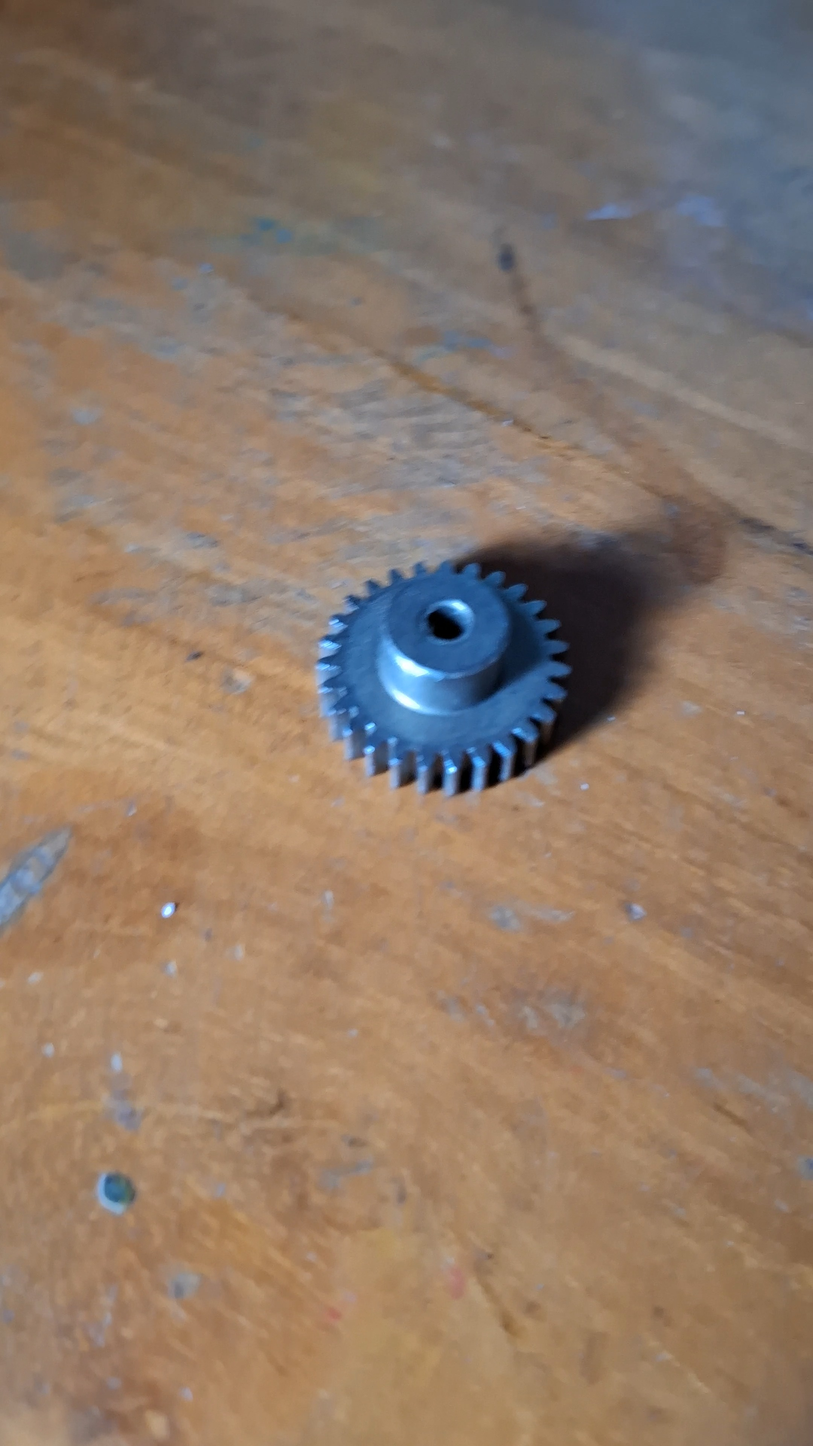spur gear: (316, 562, 570, 794)
